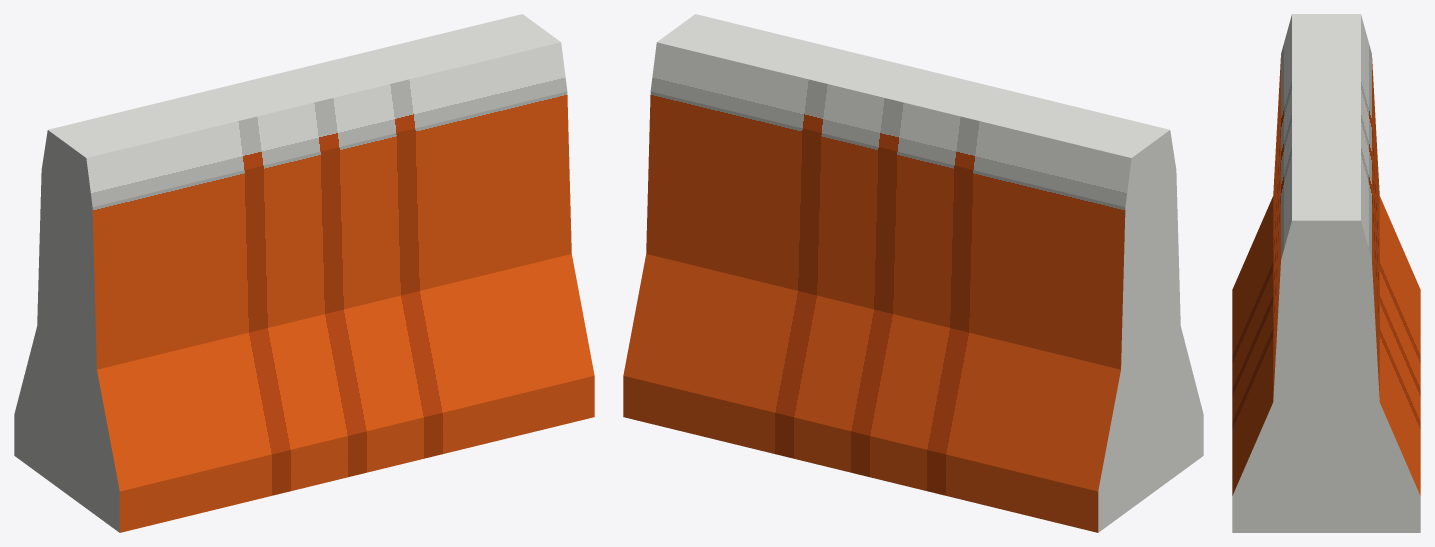
Rendered from workzone_channelizing_wall.obj.
The picture shows the model from 3 angles, left to right: view 1: azimuth 30°, elevation 25°; view 2: azimuth 150°, elevation 25°; view 3: azimuth 270°, elevation 25°; orthographic projection. The views are drawn at different scales.
Visible parts, largest first — view 1: workzone_channelizing_wall; view 2: workzone_channelizing_wall; view 3: workzone_channelizing_wall.
Part boxes in pixels (x1,y1,x2,y2): workzone_channelizing_wall: (14,14,594,532); workzone_channelizing_wall: (623,14,1203,532); workzone_channelizing_wall: (1232,14,1420,532).
Bounding box in the file's own units: 0.975 × 0.6875 × 0.375.
